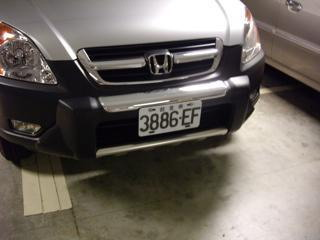plate: (138, 100, 203, 134)
